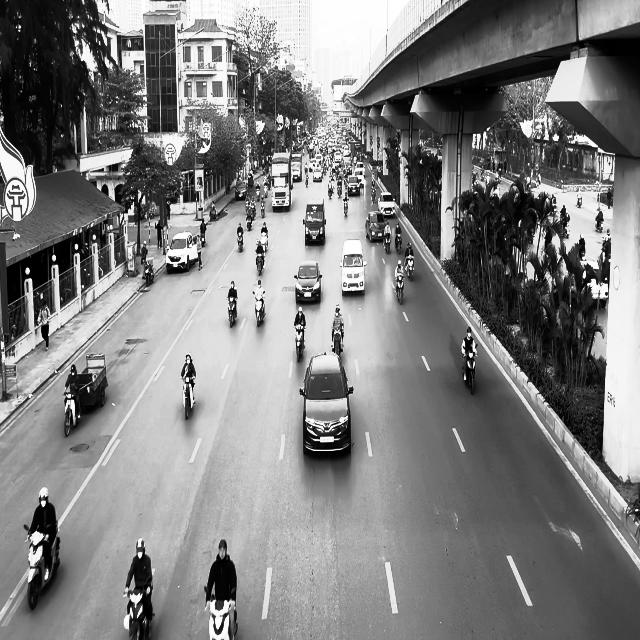bus: (270, 151, 293, 212)
car: (299, 351, 354, 456), (339, 239, 367, 295), (166, 231, 199, 274), (294, 260, 322, 304), (302, 200, 326, 245), (365, 211, 387, 242), (378, 192, 396, 216), (235, 180, 248, 200)
motorbike: (23, 522, 60, 610), (123, 572, 155, 639), (204, 585, 238, 639), (63, 386, 82, 437), (461, 345, 478, 395), (181, 374, 196, 419), (252, 291, 266, 326), (294, 324, 305, 362), (332, 324, 344, 356), (228, 296, 238, 327), (143, 256, 154, 284), (394, 274, 404, 304), (404, 254, 414, 280), (256, 250, 264, 276), (382, 233, 390, 253), (394, 233, 402, 252), (237, 230, 243, 252), (343, 197, 348, 216)
